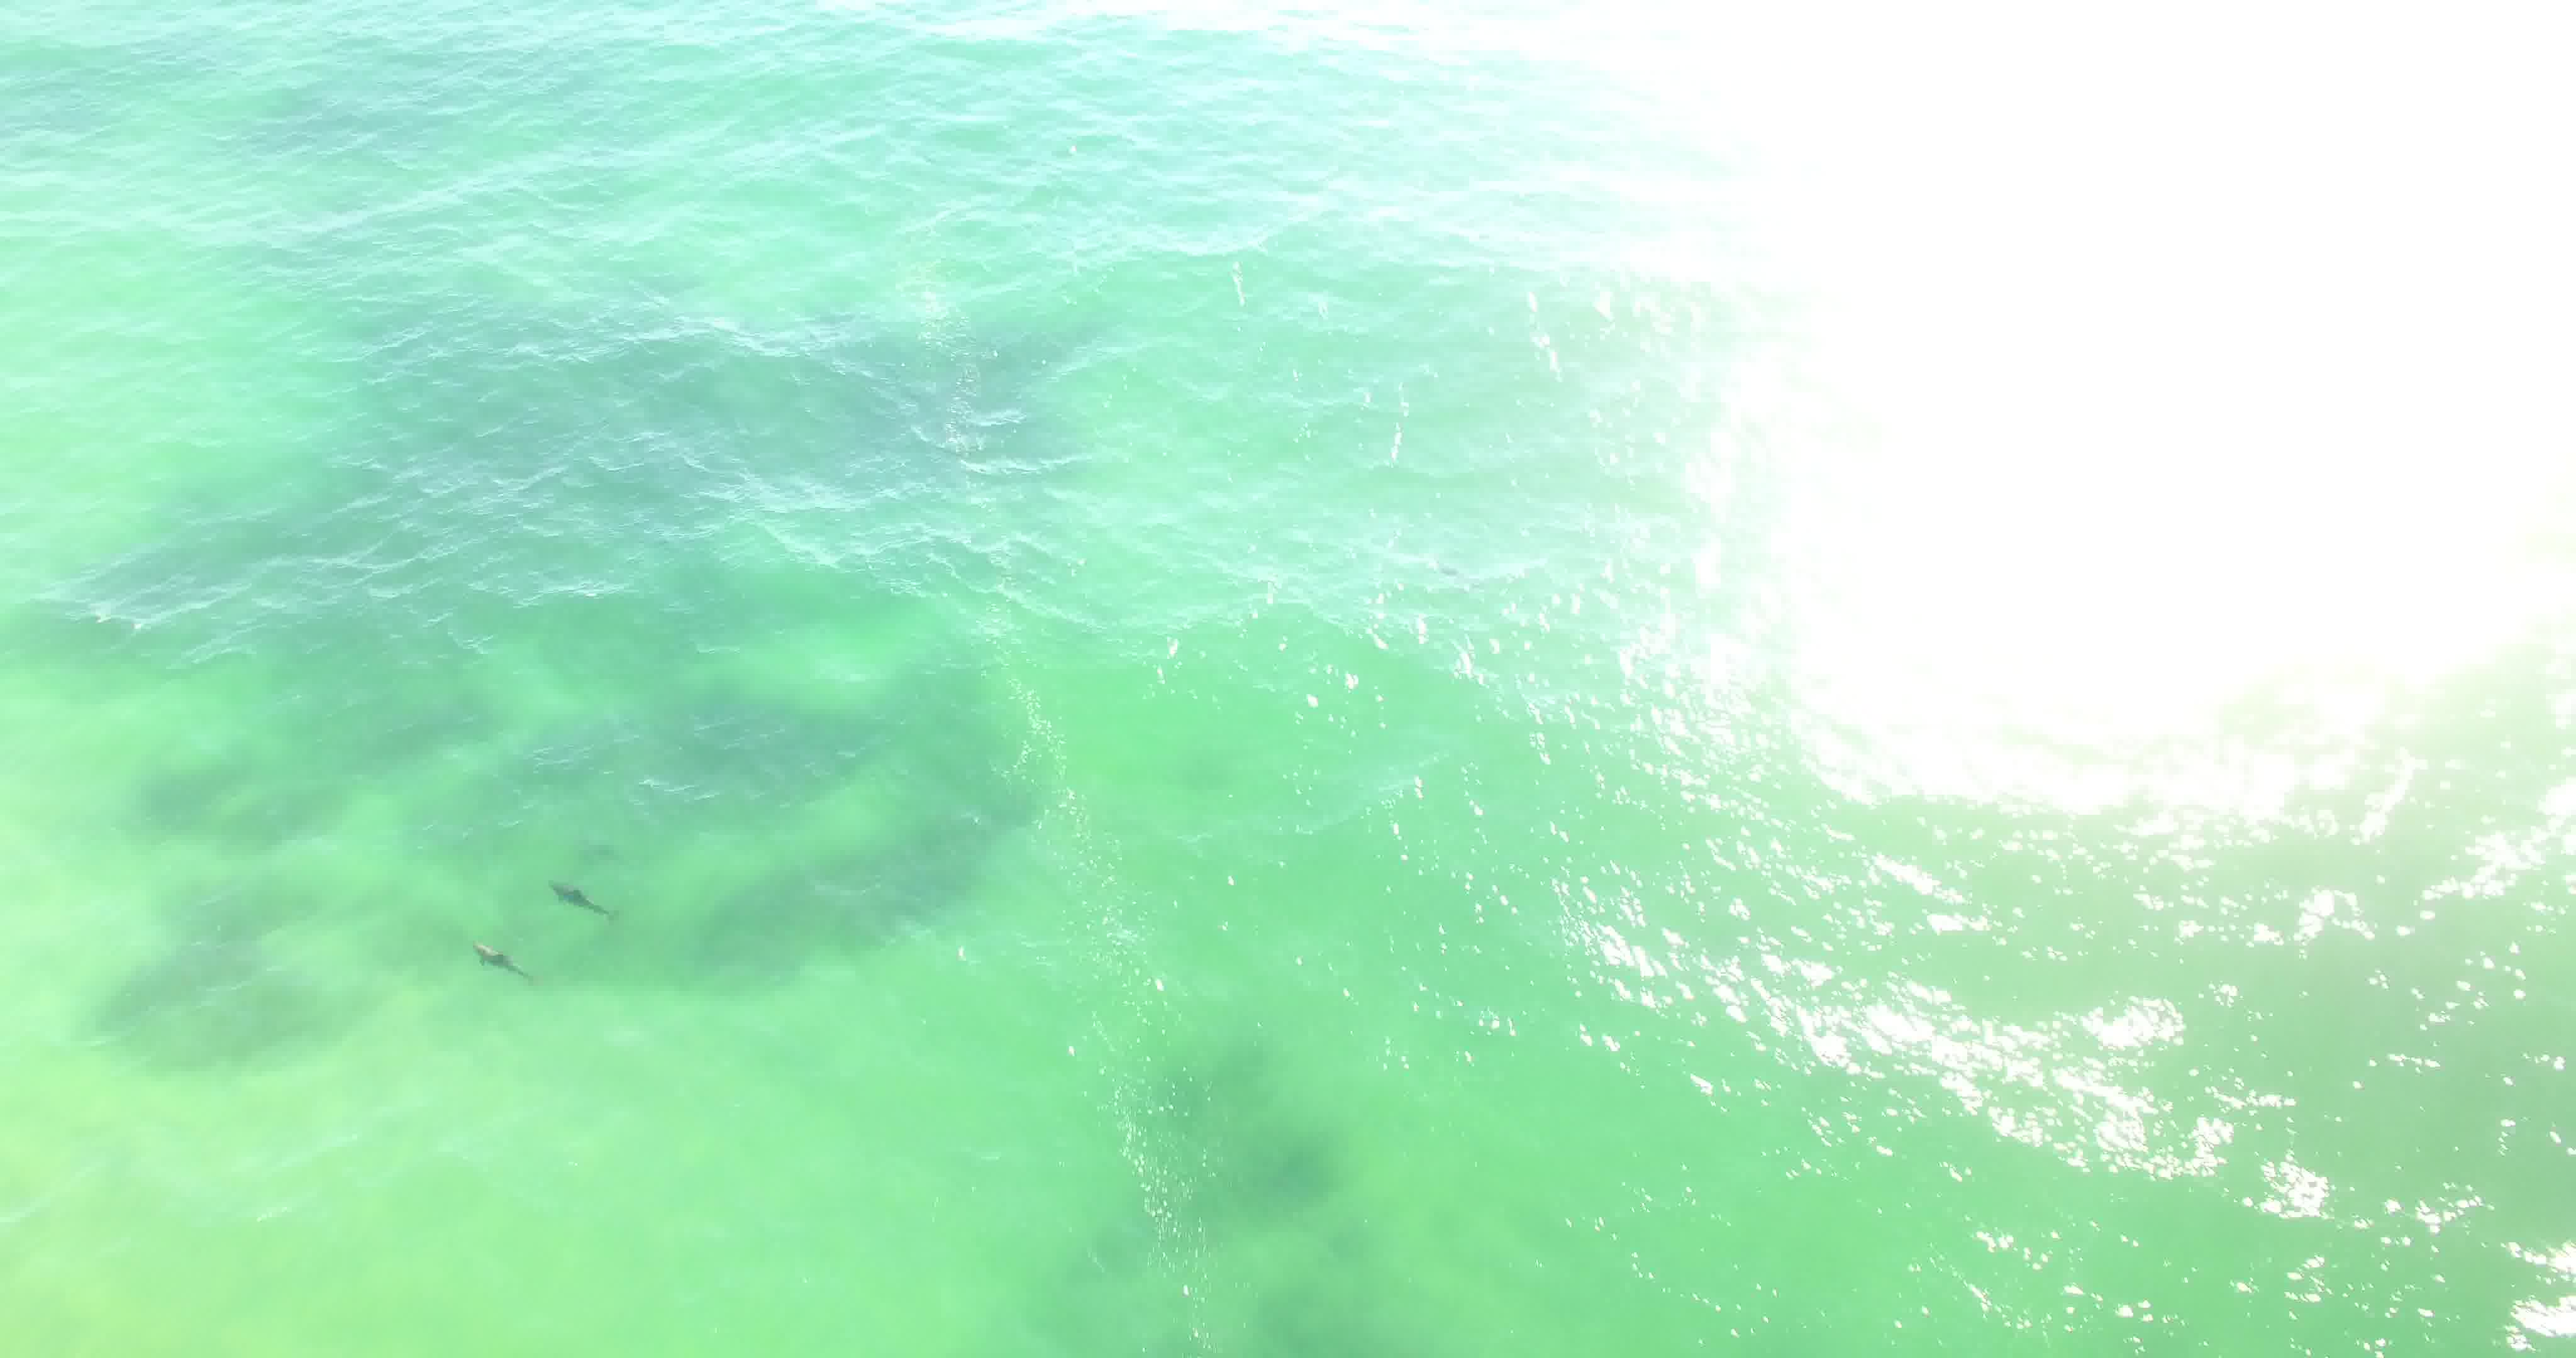dolphin: (516, 866, 635, 934), (451, 913, 540, 992)
